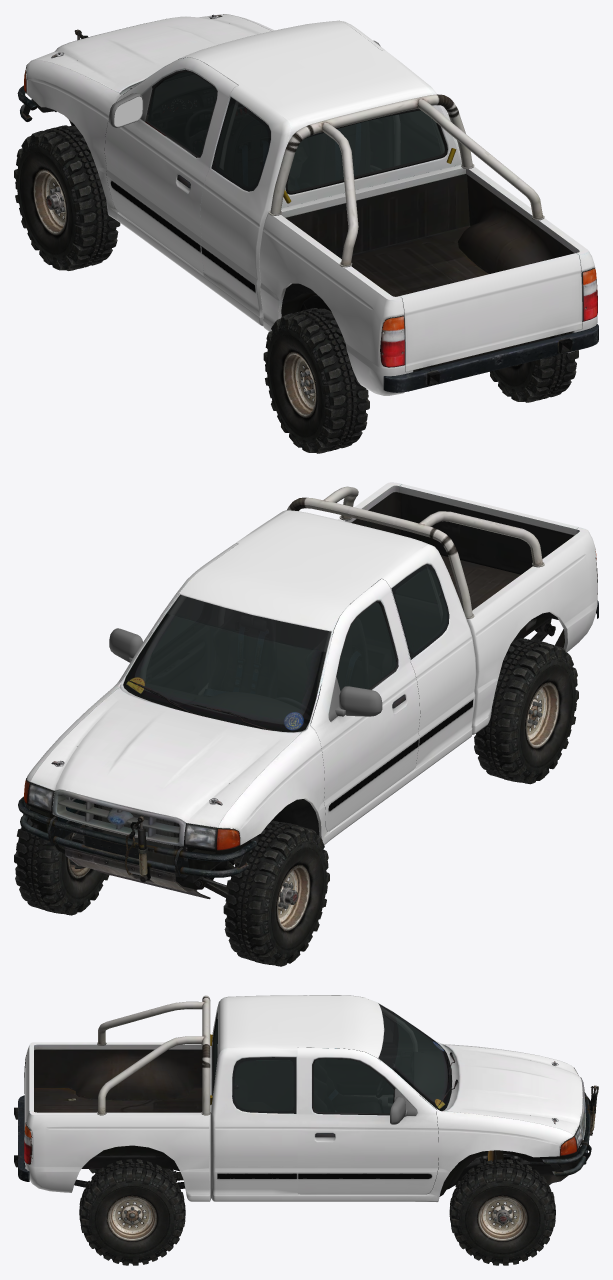
The model's file is truck.glb.
3 views of the same model, one above another, from view 1: azimuth 30°, elevation 25°; view 2: azimuth 150°, elevation 25°; view 3: azimuth 270°, elevation 25° (orthographic). The views are drawn at different scales.
Parts seen in each view (by area): view 1: chassis, frame, door_lf, boot_ok, wheel_lb.002, wheel_lf.001, glass, bonnet, rollcage.001, bumper_rear, glass_lf, wheel_rb.001 (+3 smaller); view 2: chassis, bonnet, windscreen_ok.001, door_lf, wheel_lf.001, wheel_lb.002, frame, boot_ok, bumper_front_ok, wheel_rf.001, rollcage.001, glass (+7 smaller); view 3: chassis, door_rf, frame, wheel_rb.001, wheel_rf.001, bonnet, windscreen_ok.001, glass_rf, glass, rollcage.001, bumper_front_ok, interior (+4 smaller).
Part boxes in pixels (x1=…): chassis: x1=26, y1=14, x2=597, y2=395; frame: x1=32, y1=99, x2=574, y2=391; door_lf: x1=104, y1=57, x2=238, y2=273; boot_ok: x1=399, y1=253, x2=582, y2=371; wheel_lb.002: x1=263, y1=308, x2=369, y2=453; wheel_lf.001: x1=14, y1=125, x2=120, y2=270; glass: x1=211, y1=97, x2=444, y2=191; bonnet: x1=33, y1=14, x2=271, y2=93; rollcage.001: x1=221, y1=94, x2=544, y2=267; bumper_rear: x1=383, y1=324, x2=598, y2=392; glass_lf: x1=152, y1=72, x2=216, y2=155; wheel_rb.001: x1=490, y1=350, x2=578, y2=402; chassis: x1=26, y1=482, x2=597, y2=844; bonnet: x1=30, y1=687, x2=301, y2=827; windscreen_ok.001: x1=123, y1=595, x2=331, y2=732; door_lf: x1=310, y1=578, x2=420, y2=831; wheel_lf.001: x1=223, y1=820, x2=329, y2=966; wheel_lb.002: x1=474, y1=638, x2=578, y2=784; frame: x1=30, y1=492, x2=564, y2=899; boot_ok: x1=399, y1=484, x2=578, y2=574; bumper_front_ok: x1=18, y1=796, x2=256, y2=882; wheel_rf.001: x1=14, y1=806, x2=109, y2=915; rollcage.001: x1=140, y1=486, x2=544, y2=694; glass: x1=391, y1=564, x2=449, y2=659; chassis: x1=24, y1=995, x2=573, y2=1202; door_rf: x1=297, y1=1047, x2=438, y2=1194; frame: x1=14, y1=1049, x2=581, y2=1196; wheel_rb.001: x1=79, y1=1159, x2=185, y2=1265; wheel_rf.001: x1=449, y1=1159, x2=555, y2=1265; bonnet: x1=445, y1=1045, x2=582, y2=1135; windscreen_ok.001: x1=378, y1=1003, x2=451, y2=1111; glass_rf: x1=313, y1=1059, x2=393, y2=1113; glass: x1=213, y1=1017, x2=296, y2=1113; rollcage.001: x1=97, y1=995, x2=416, y2=1115; bumper_front_ok: x1=530, y1=1085, x2=598, y2=1176; interior: x1=215, y1=1015, x2=451, y2=1113.
Bounding box in the file's own units: 2.23 × 2.16 × 5.61.
26 materials, 22 textured.
